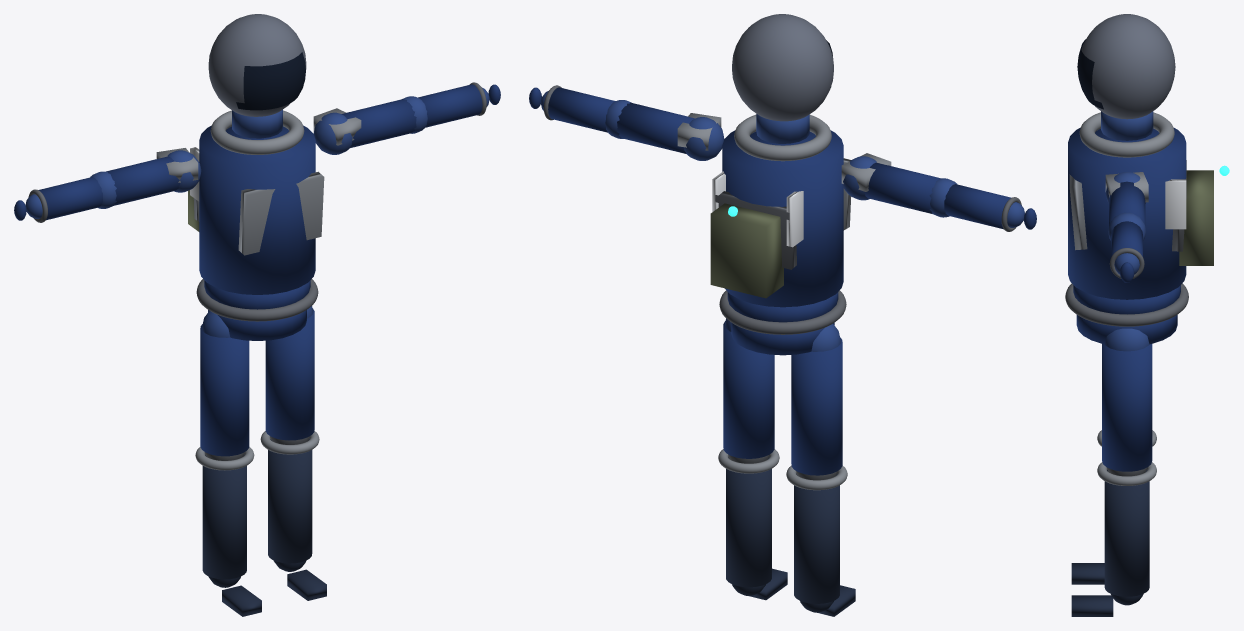
Rendered from mesh_player_character.glb.
The picture shows the model from 3 angles, left to right: view 1: azimuth 30°, elevation 25°; view 2: azimuth 150°, elevation 25°; view 3: azimuth 270°, elevation 25°; orthographic projection. The views are drawn at different scales.
Parts seen in each view (by area): view 1: Torso_Upper, Thigh_L, Helmet_Shell, Thigh_R, Boot_L, Boot_R, ChestPlate, Visor, UpperArm_L, UpperArm_R, CollarRing, Forearm_R (+11 smaller); view 2: Torso_Upper, Helmet_Shell, Thigh_L, Backpack_Body, Thigh_R, Boot_R, Boot_L, UpperArm_L, UpperArm_R, CollarRing, Forearm_L, Forearm_R (+11 smaller); view 3: Torso_Upper, Helmet_Shell, Thigh_R, Boot_R, Backpack_Body, CollarRing, Belt, Torso_Lower, Pelvis, Neck, Backpack_Strap_0.12, UpperArm_R (+14 smaller).
Part boxes in pixels (x1,y1,x2,y2): Torso_Upper: (199, 125, 315, 294); Thigh_L: (200, 324, 249, 456); Helmet_Shell: (208, 14, 306, 116); Thigh_R: (265, 308, 314, 440); Boot_L: (202, 454, 246, 579); Boot_R: (268, 439, 312, 563); ChestPlate: (238, 171, 324, 255); Visor: (236, 52, 305, 110); UpperArm_L: (106, 156, 179, 205); UpperArm_R: (341, 99, 416, 147); CollarRing: (210, 110, 304, 154); Forearm_R: (418, 84, 482, 127); Torso_Upper: (722, 130, 843, 307); Helmet_Shell: (732, 14, 833, 121); Thigh_L: (791, 337, 842, 475); Backpack_Body: (710, 203, 783, 298); Thigh_R: (723, 321, 774, 458); Boot_R: (726, 457, 771, 587); Boot_L: (794, 473, 839, 603); UpperArm_L: (863, 162, 940, 213); UpperArm_R: (617, 102, 694, 153); CollarRing: (734, 114, 831, 161); Forearm_L: (944, 184, 1011, 229); Forearm_R: (548, 87, 615, 132); Torso_Upper: (1068, 127, 1186, 299); Helmet_Shell: (1081, 14, 1175, 119); Thigh_R: (1102, 344, 1152, 471); Boot_R: (1104, 470, 1149, 596); Backpack_Body: (1179, 170, 1213, 265); CollarRing: (1079, 112, 1174, 157); Belt: (1065, 283, 1188, 326); Torso_Lower: (1073, 285, 1180, 314); Pelvis: (1076, 315, 1177, 344); Neck: (1101, 111, 1153, 140); Backpack_Strap_0.12: (1165, 179, 1186, 229); UpperArm_R: (1109, 181, 1145, 225).
Bounding box in the file's own units: 1.64 × 1.83 × 0.473.
